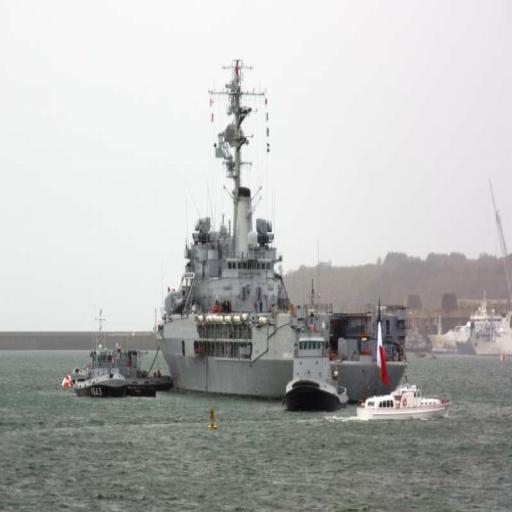Portanaves: (152, 57, 417, 408)
